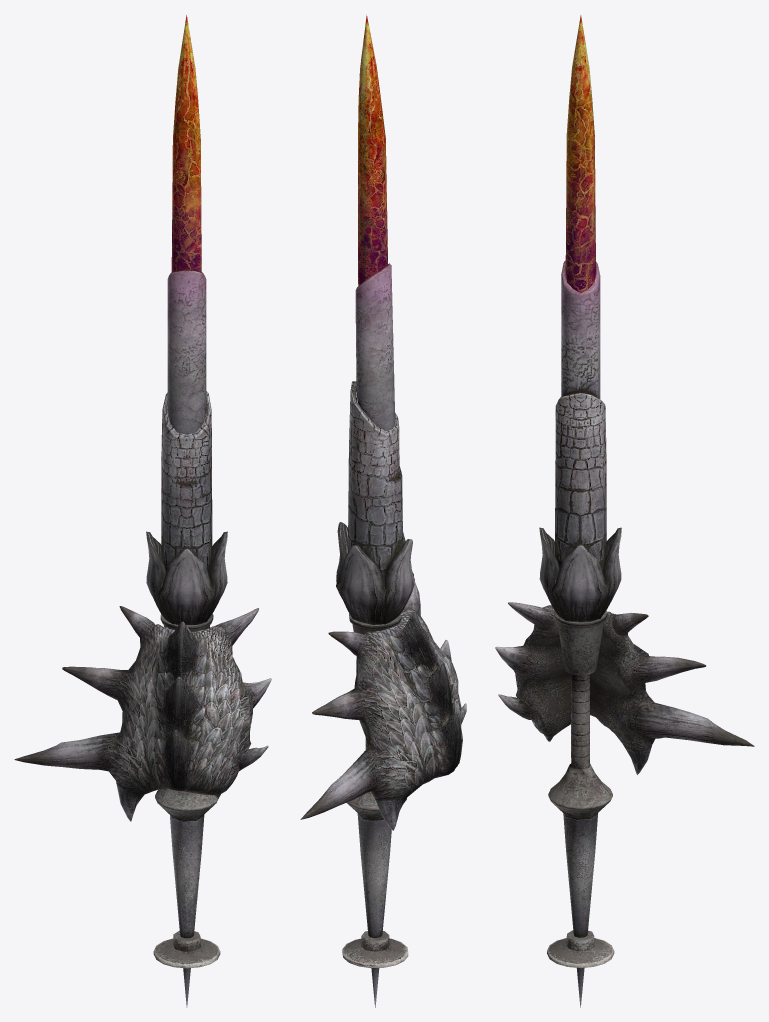
Rendered from lan022.obj.
3 renders of one model, left to right at view 1: azimuth 90°, elevation 25°; view 2: azimuth 150°, elevation 25°; view 3: azimuth 270°, elevation 25°, orthographic.
Parts seen in each view (by area): view 1: lan022_000_LOD_1; view 2: lan022_000_LOD_1; view 3: lan022_000_LOD_1.
Boxes of the visible parts, x1,y1,x2,y2 form: lan022_000_LOD_1: (14, 15, 271, 1007); lan022_000_LOD_1: (300, 14, 466, 1007); lan022_000_LOD_1: (495, 15, 754, 1007).
Size of the model in its own units: 54.34 by 411 by 96.81.
